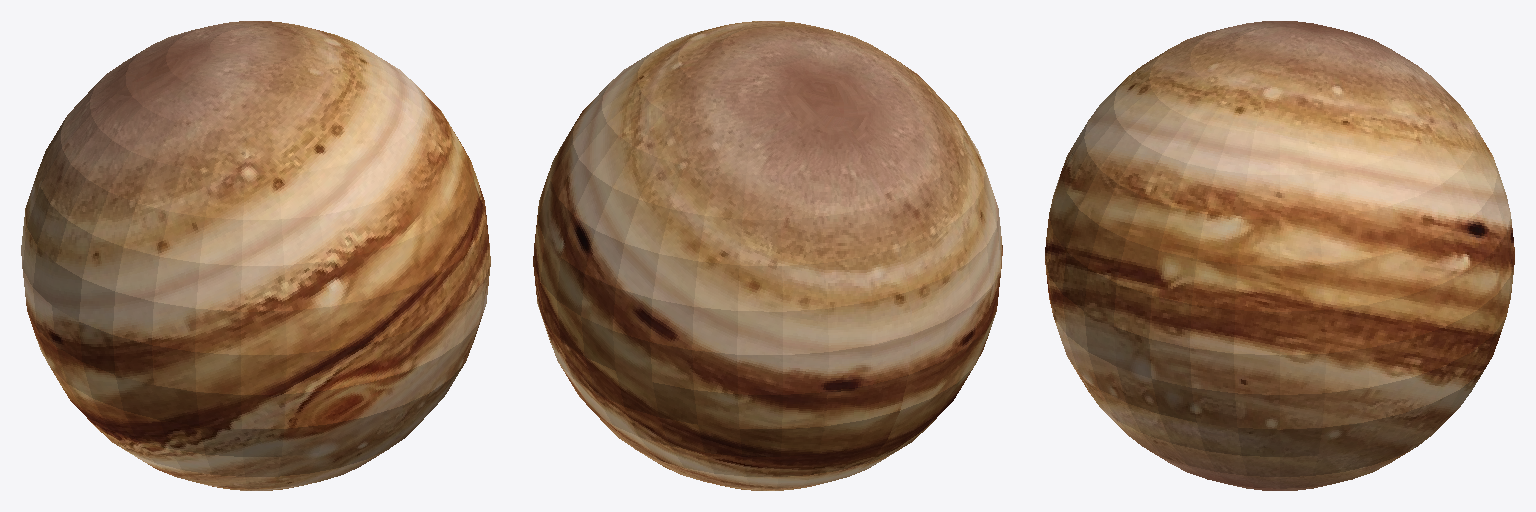
3 renders of one model, left to right at view 1: azimuth 30°, elevation 25°; view 2: azimuth 150°, elevation 25°; view 3: azimuth 270°, elevation 25°, orthographic.
Parts seen in each view (by area): view 1: earth_Sphere.001; view 2: earth_Sphere.001; view 3: earth_Sphere.001.
Part boxes in pixels (x1,y1,x2,y2): earth_Sphere.001: (21,21,490,490); earth_Sphere.001: (533,21,1002,490); earth_Sphere.001: (1045,21,1514,490).
Bounding box in the file's own units: 2 × 2 × 2.
Materials: 1 (1 with a texture image).